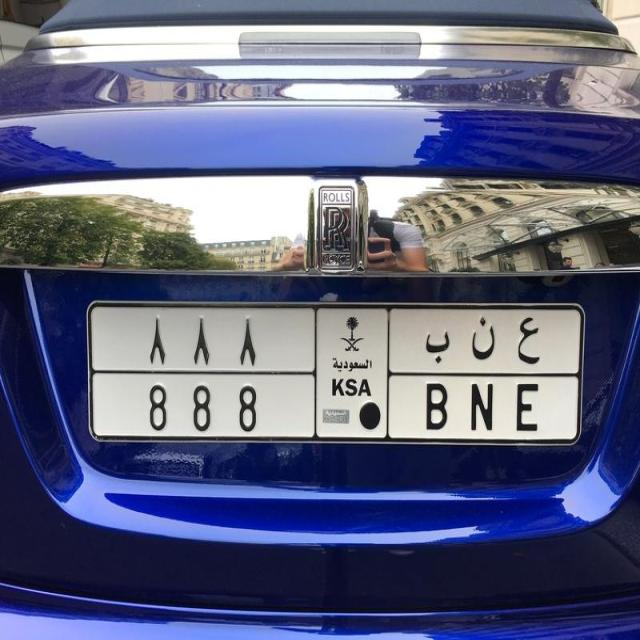license_plate: (82, 292, 592, 451)
